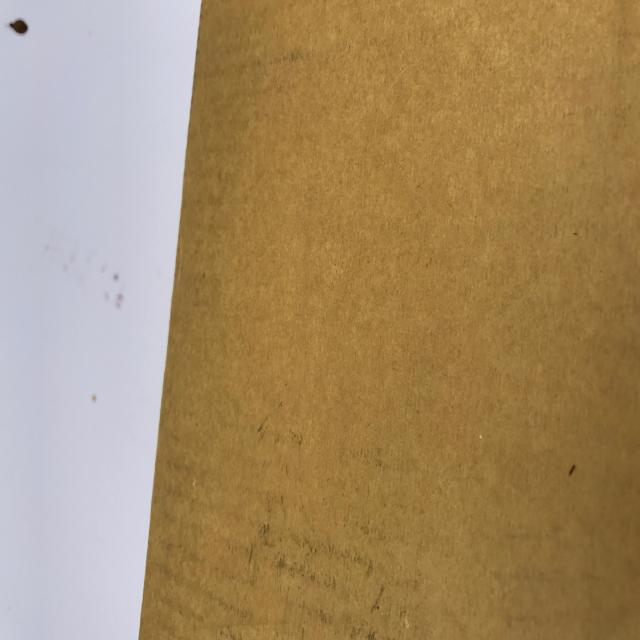cardboard: (137, 1, 639, 638)
